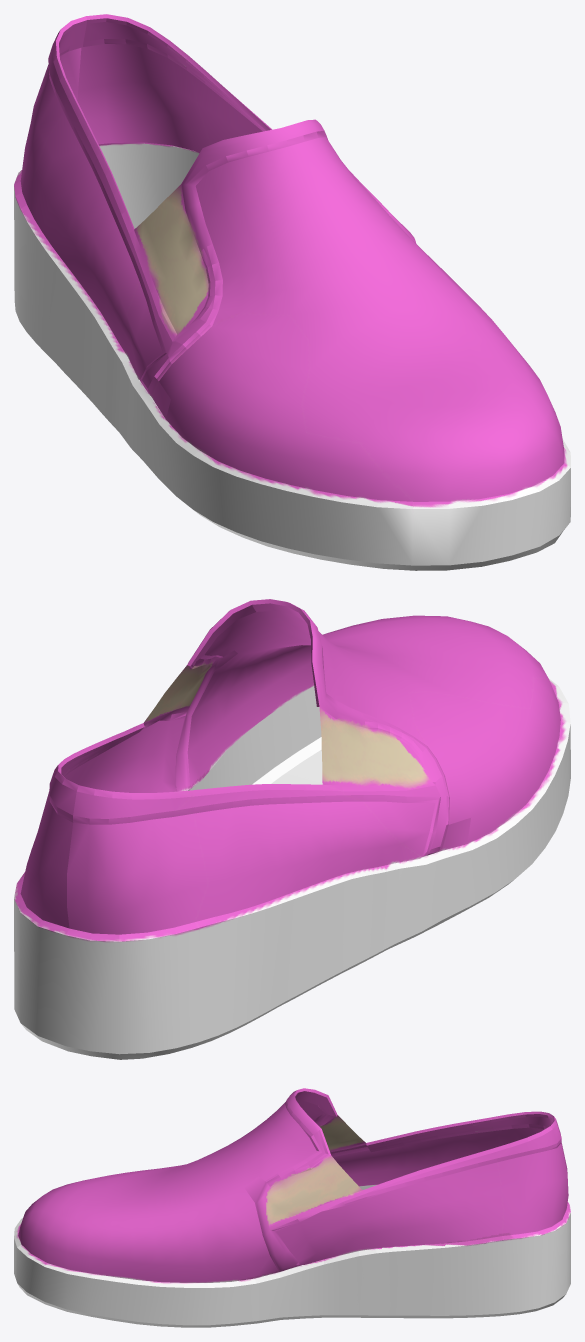
File: shoes4.fbx
3 renders of one model, top to bottom at view 1: azimuth 30°, elevation 25°; view 2: azimuth 150°, elevation 25°; view 3: azimuth 270°, elevation 25°, orthographic. The views are drawn at different scales.
Visible parts, largest first — view 1: node_id5; view 2: node_id5; view 3: node_id5.
Part boxes in pixels (x1,y1,x2,y2): node_id5: [14, 14, 570, 570]; node_id5: [14, 599, 570, 1059]; node_id5: [14, 1088, 570, 1327].
Bounding box in the file's own units: 0.182 × 0.1769 × 0.461.
1 material, 1 textured.
